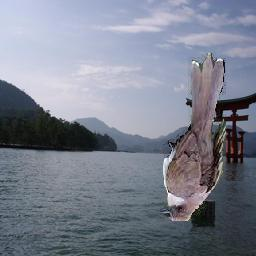Cuckoo: (156, 53, 226, 221)
